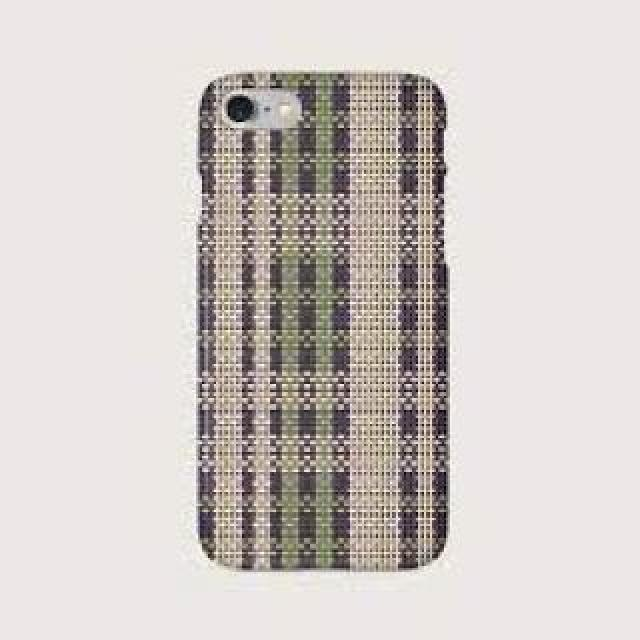smart phone: (192, 27, 445, 575)
